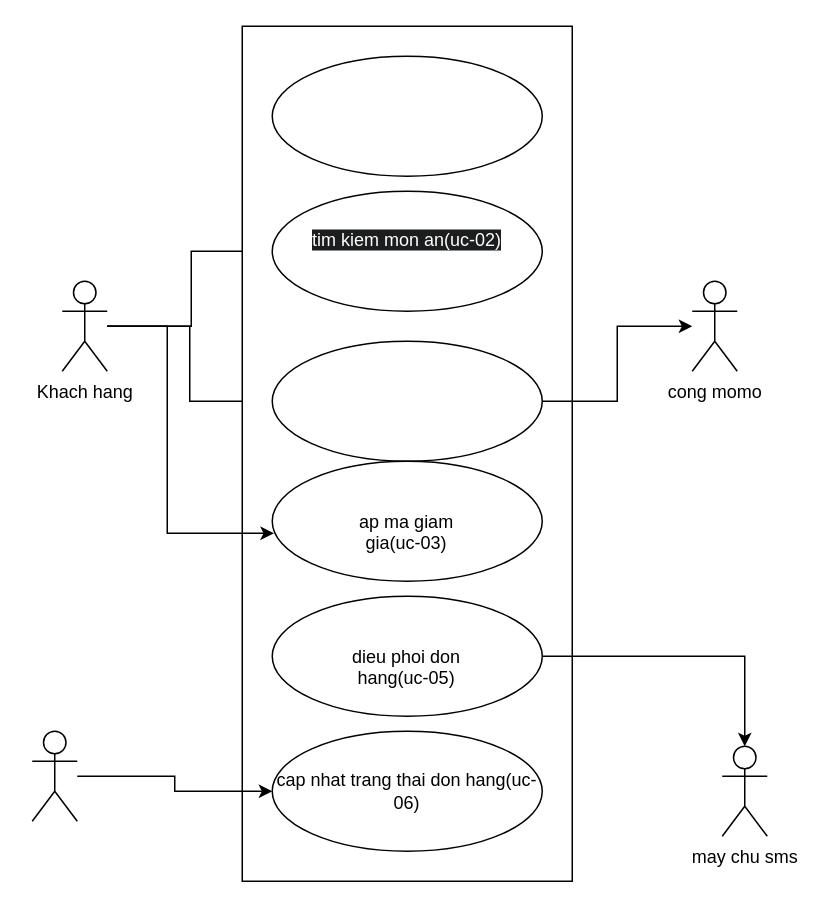
Image size: 824x908. Some labels were removed from this diagram. The centre of each missing label's shape, as x and y in pixels:
Dat do an va thanh toan(uc-01): point (406, 400)
shipper: point (54, 775)
xac thuc tai khoan(uc-04): point (406, 115)
